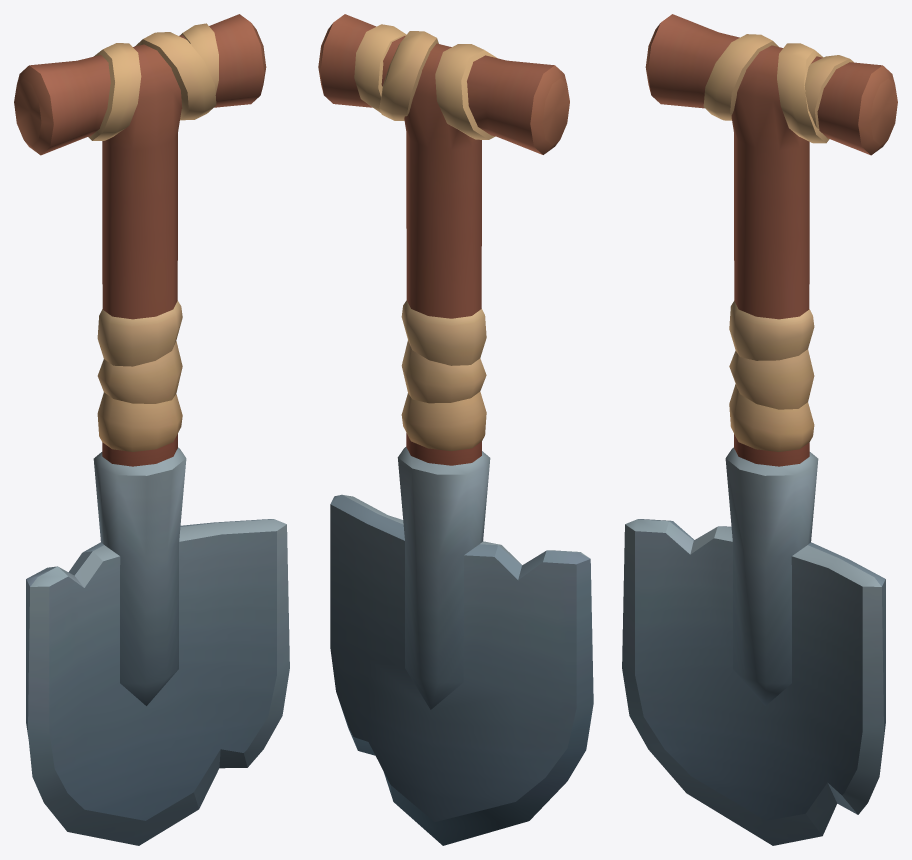
File: spade.glb
The picture shows the model from 3 angles, left to right: view 1: azimuth 30°, elevation 25°; view 2: azimuth 150°, elevation 25°; view 3: azimuth 330°, elevation 25°; orthographic projection.
Parts seen in each view (by area): view 1: shovel; view 2: shovel; view 3: shovel.
Part boxes in pixels (x1,y1,x2,y2): shovel: (14, 14, 289, 845); shovel: (318, 14, 593, 845); shovel: (622, 14, 897, 845).
Bounding box in the file's own units: 0.5381 × 1.58 × 0.1562.
1 material, 1 textured.
